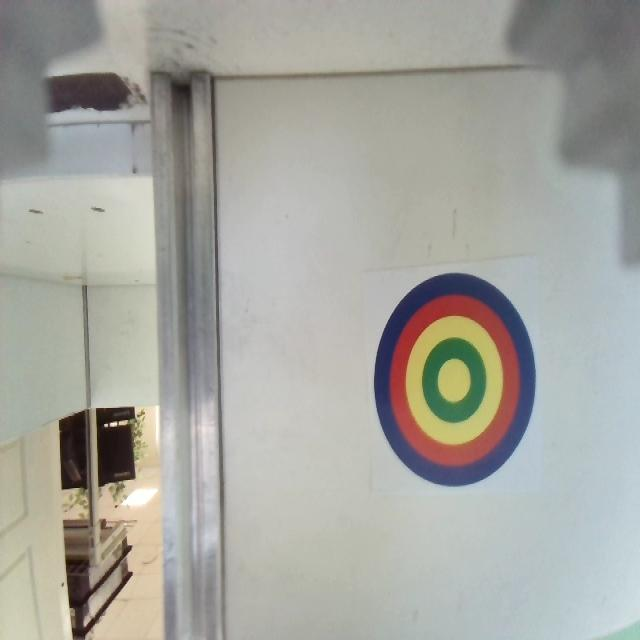cogn: (373, 270, 536, 488)
